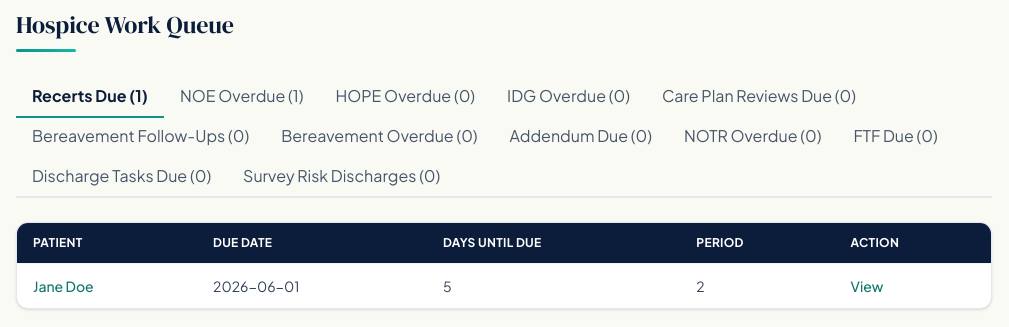
Scenario: HospiceWorkQueue › switches tabs when clicked
expect the link "Jane Doe" is shown: met, box 33,277 -> 94,295
expect the text "John Smith" is not shown: met
Click the tab "NOE Overdue (1)" at (242, 97), box 164,76 -> 320,118
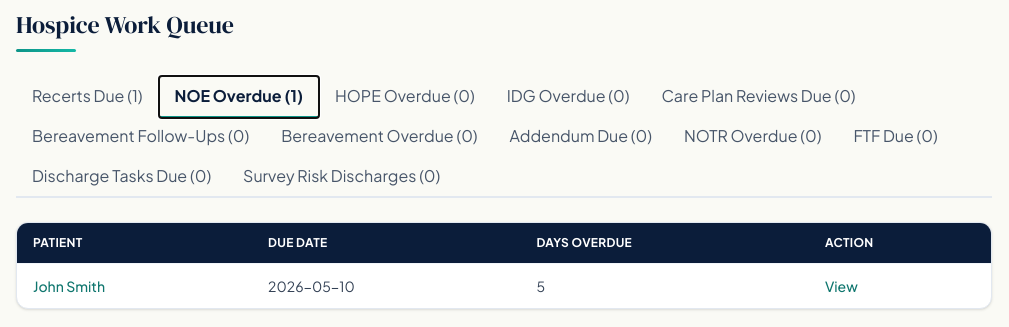
expect the link "John Smith" is shown: met, box 33,277 -> 105,295
